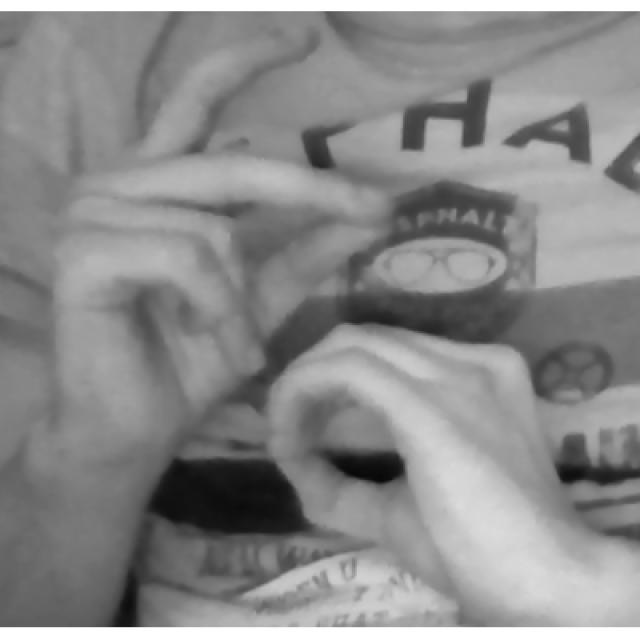O--: (50, 23, 581, 624)
